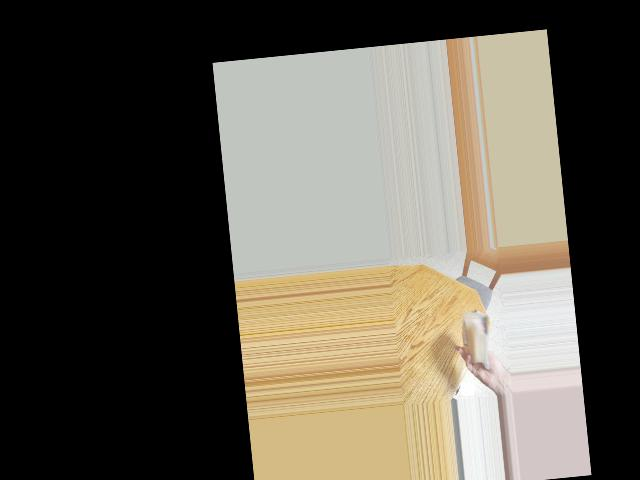cheese: (454, 310, 497, 366)
